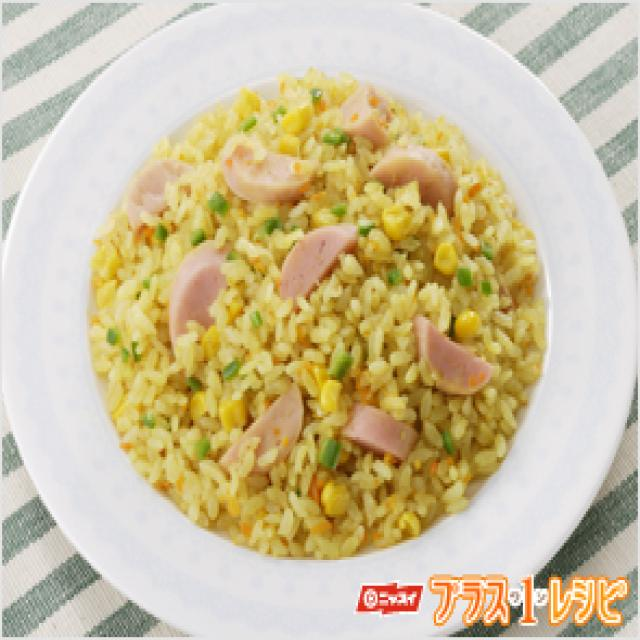米饭主食: (76, 49, 560, 554)
